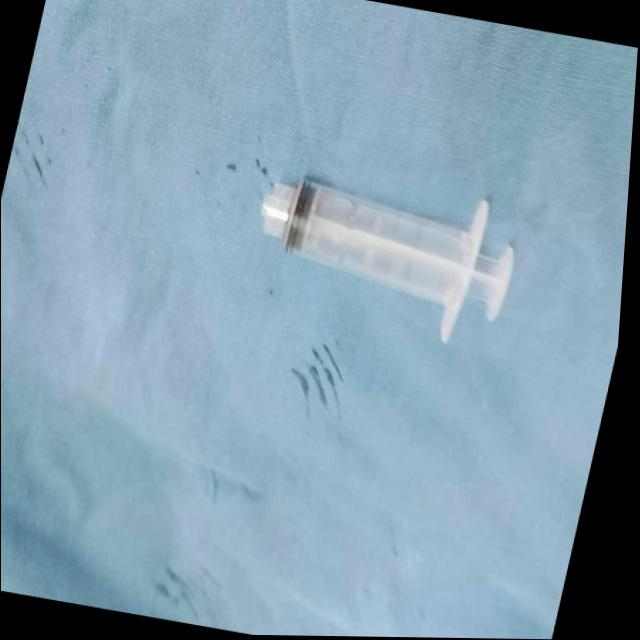Pathological: (2, 1, 638, 636)
Sharps: (260, 176, 516, 343)
